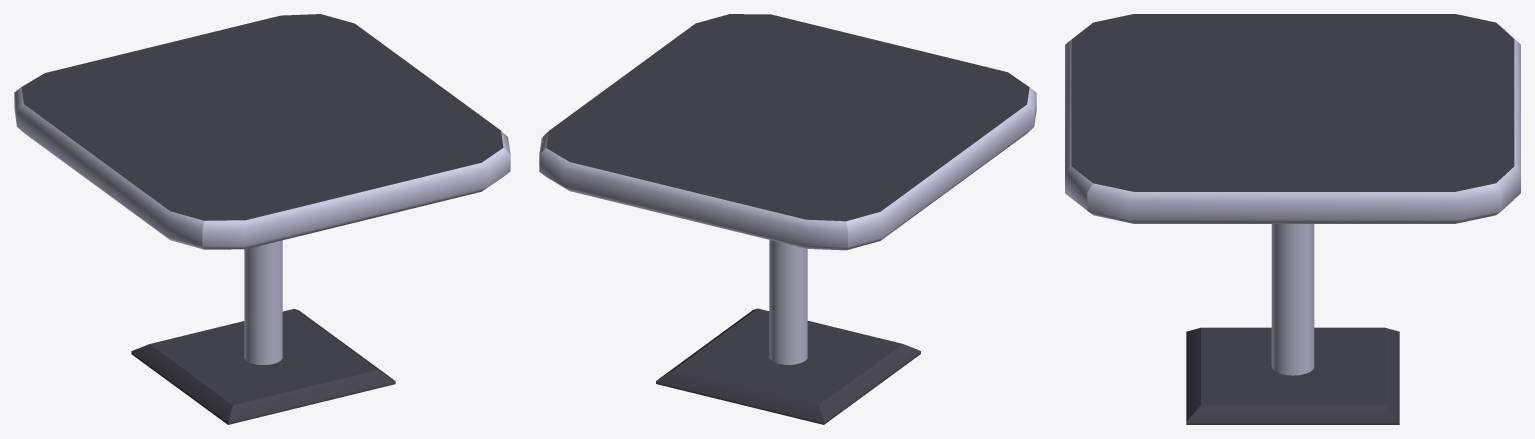
File: DinerTable.fbx
The picture shows the model from 3 angles, left to right: view 1: azimuth 30°, elevation 25°; view 2: azimuth 150°, elevation 25°; view 3: azimuth 270°, elevation 25°; orthographic projection. The views are drawn at different scales.
Parts seen in each view (by area): view 1: pCylinder2; view 2: pCylinder2; view 3: pCylinder2.
Boxes of the visible parts, bbox=[...] form: pCylinder2: bbox=[14, 14, 510, 424]; pCylinder2: bbox=[539, 14, 1036, 424]; pCylinder2: bbox=[1065, 14, 1520, 424].
Size of the model in its own units: 12.2 by 8.6 by 12.83.
